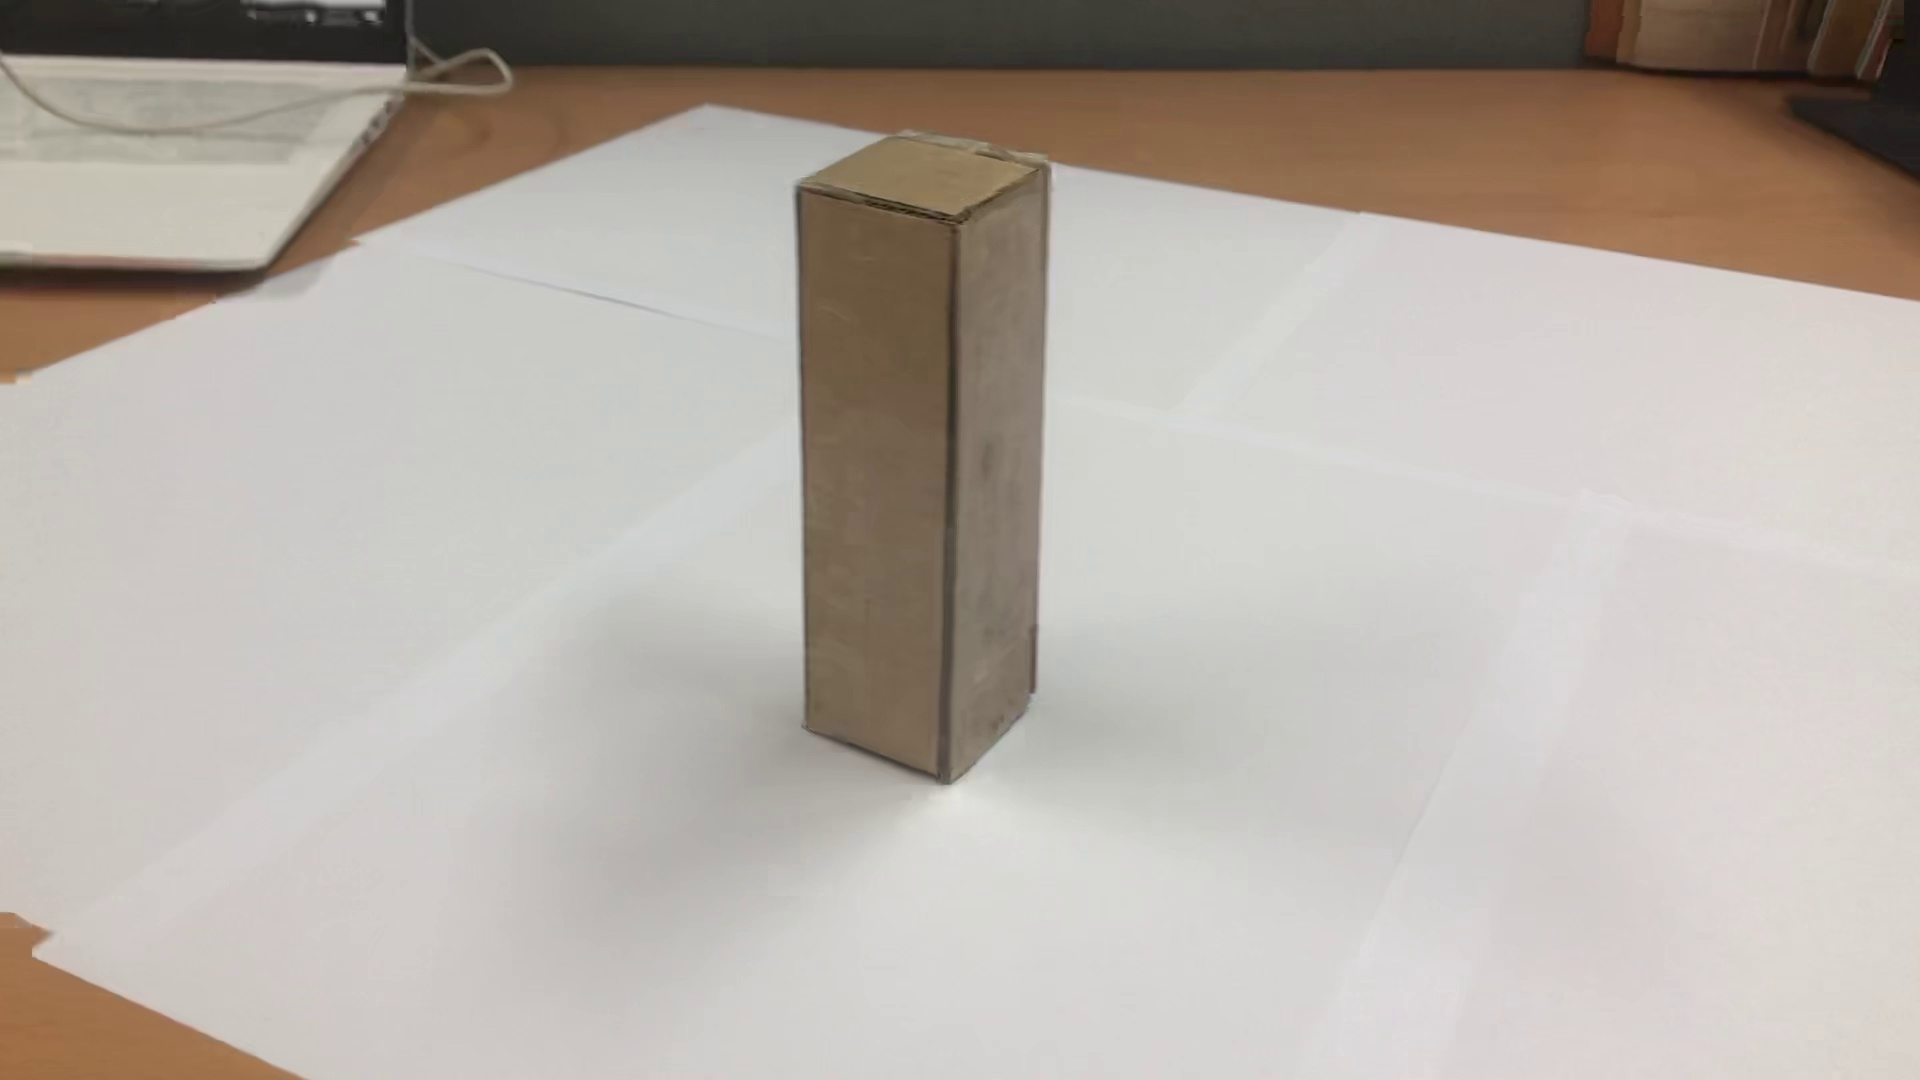box: (746, 94, 1063, 831)
